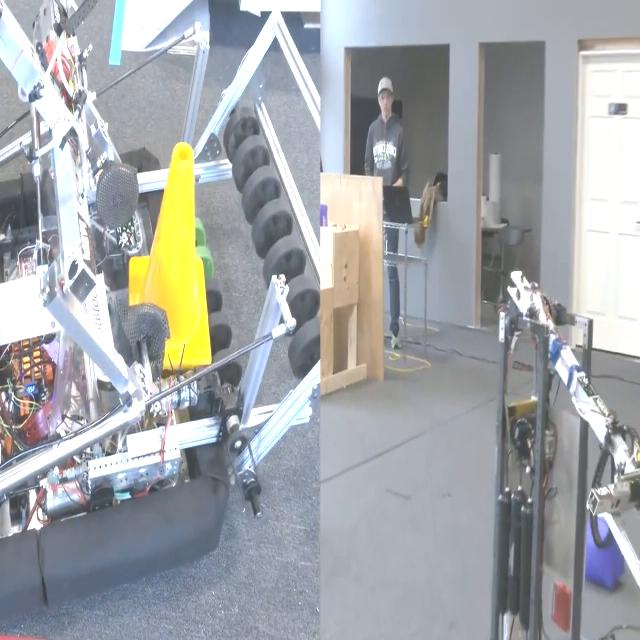frc_cone: (129, 144, 209, 376)
frc_cube: (585, 504, 623, 596)
